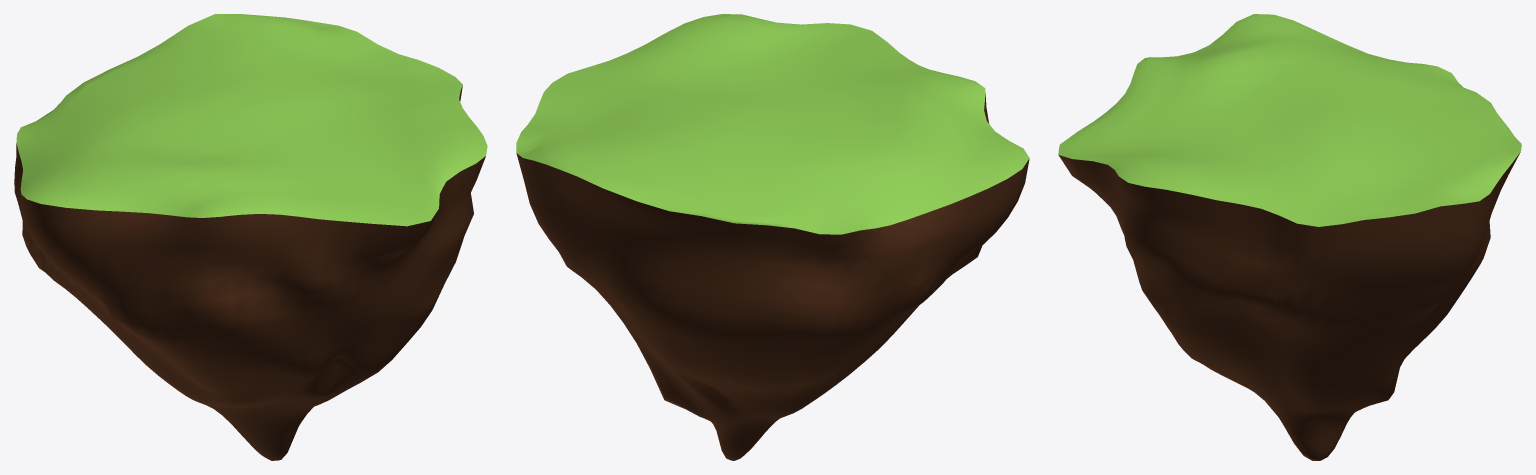
File: Island.fbx
3 renders of one model, left to right at view 1: azimuth 30°, elevation 25°; view 2: azimuth 150°, elevation 25°; view 3: azimuth 270°, elevation 25°, orthographic. The views are drawn at different scales.
Parts seen in each view (by area): view 1: Island; view 2: Island; view 3: Island.
Boxes of the visible parts, bbox=[...] form: Island: bbox=[14, 14, 487, 460]; Island: bbox=[516, 14, 1029, 460]; Island: bbox=[1058, 14, 1521, 460].
Bounding box in the file's own units: 20.5 × 15.56 × 19.37.
